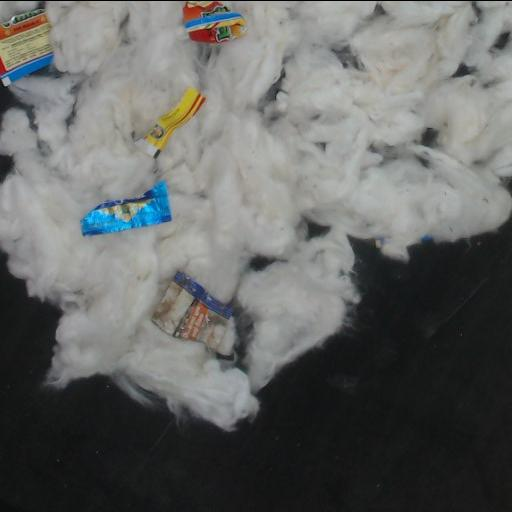conveyor belt: (0, 220, 511, 512)
cotton: (0, 1, 511, 430)
packet: (151, 272, 233, 354), (81, 182, 171, 234), (137, 89, 204, 158), (0, 9, 51, 84), (185, 1, 244, 43)
